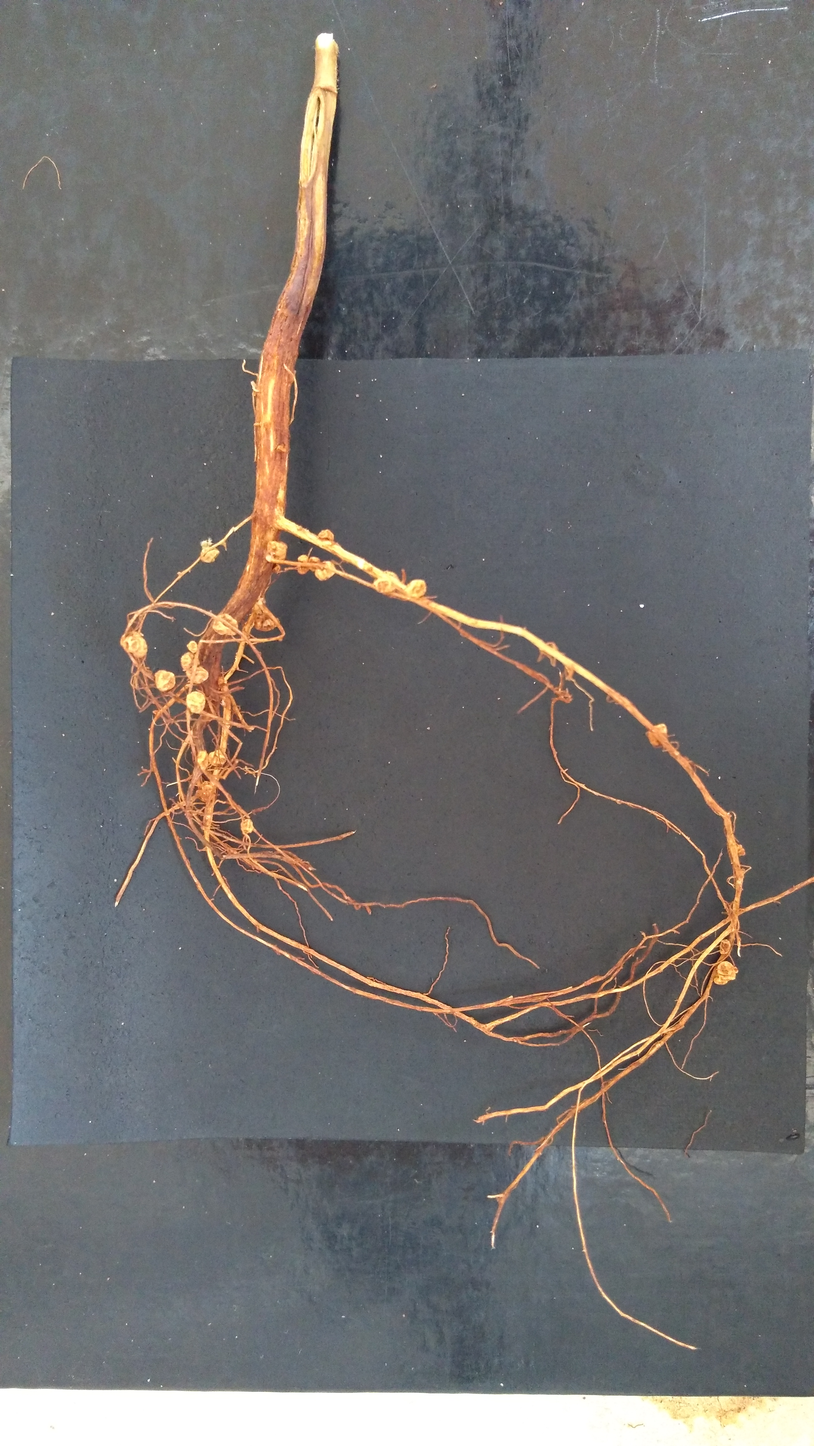nodule: (120, 631, 151, 659), (151, 666, 179, 694), (254, 603, 281, 632), (712, 959, 739, 987), (213, 613, 242, 637), (373, 569, 400, 594), (199, 537, 222, 565), (185, 688, 205, 718), (182, 664, 212, 684), (264, 539, 289, 562), (646, 723, 669, 747), (314, 560, 337, 583), (405, 577, 427, 600), (195, 780, 217, 803), (179, 650, 202, 671), (208, 748, 229, 766), (295, 553, 311, 575), (195, 749, 210, 770), (318, 527, 336, 543), (184, 638, 199, 655), (240, 818, 254, 835), (718, 938, 731, 956), (307, 556, 321, 571)
